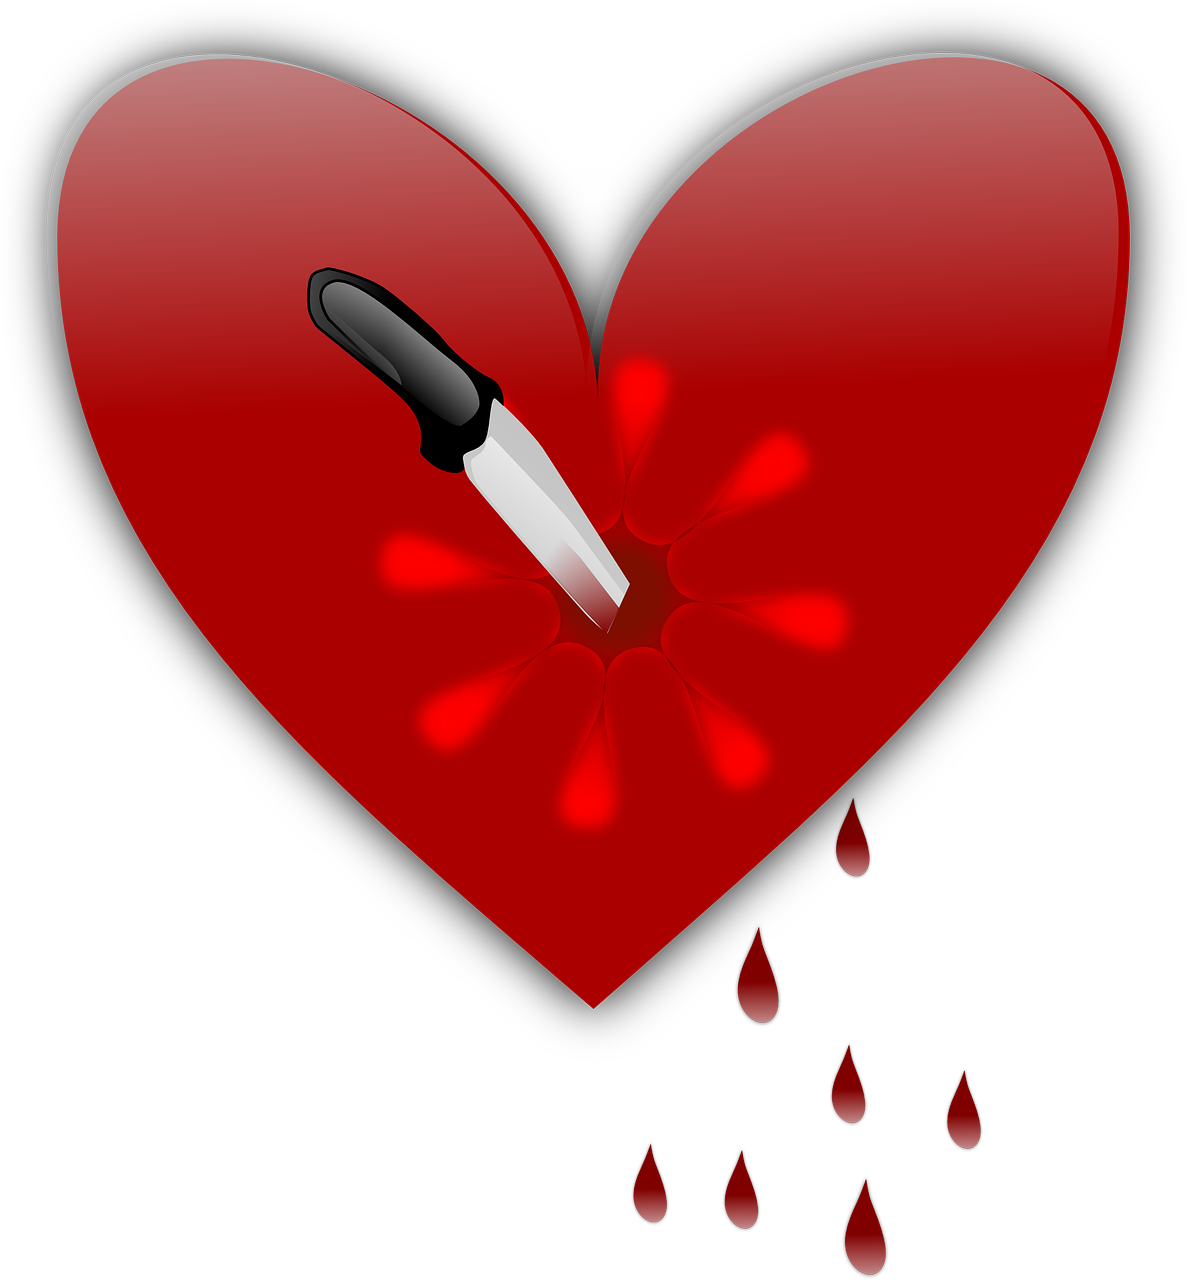knife: (295, 260, 638, 635)
